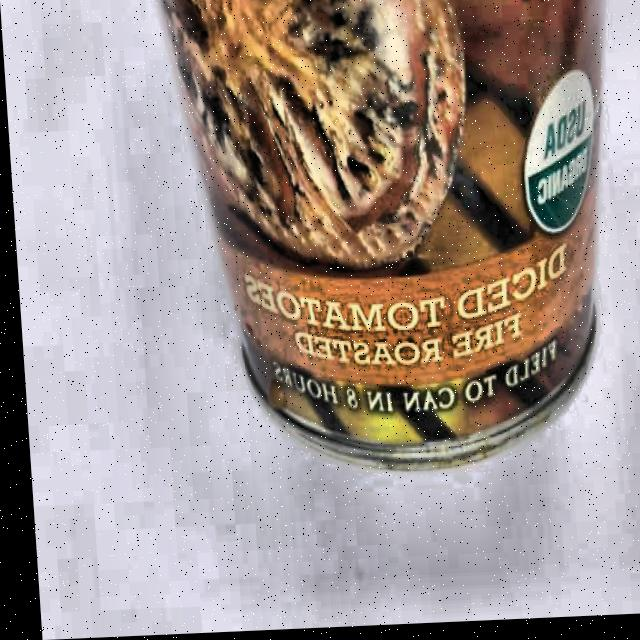metal: (150, 0, 640, 487)
